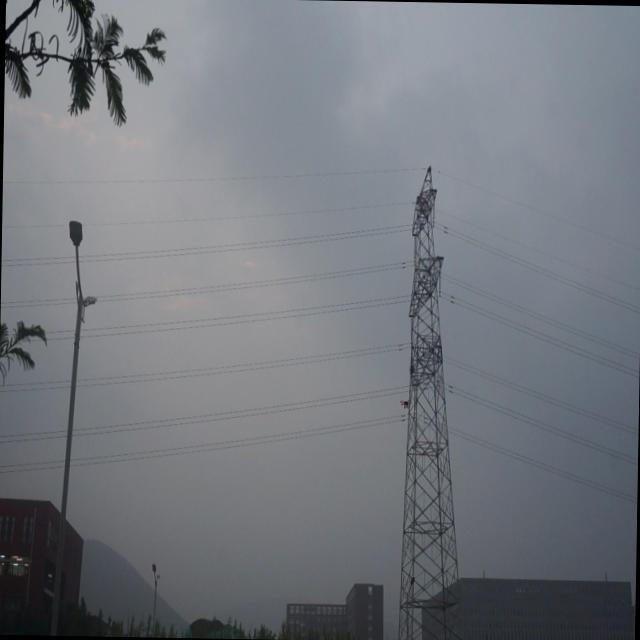drone: (399, 394, 411, 410)
